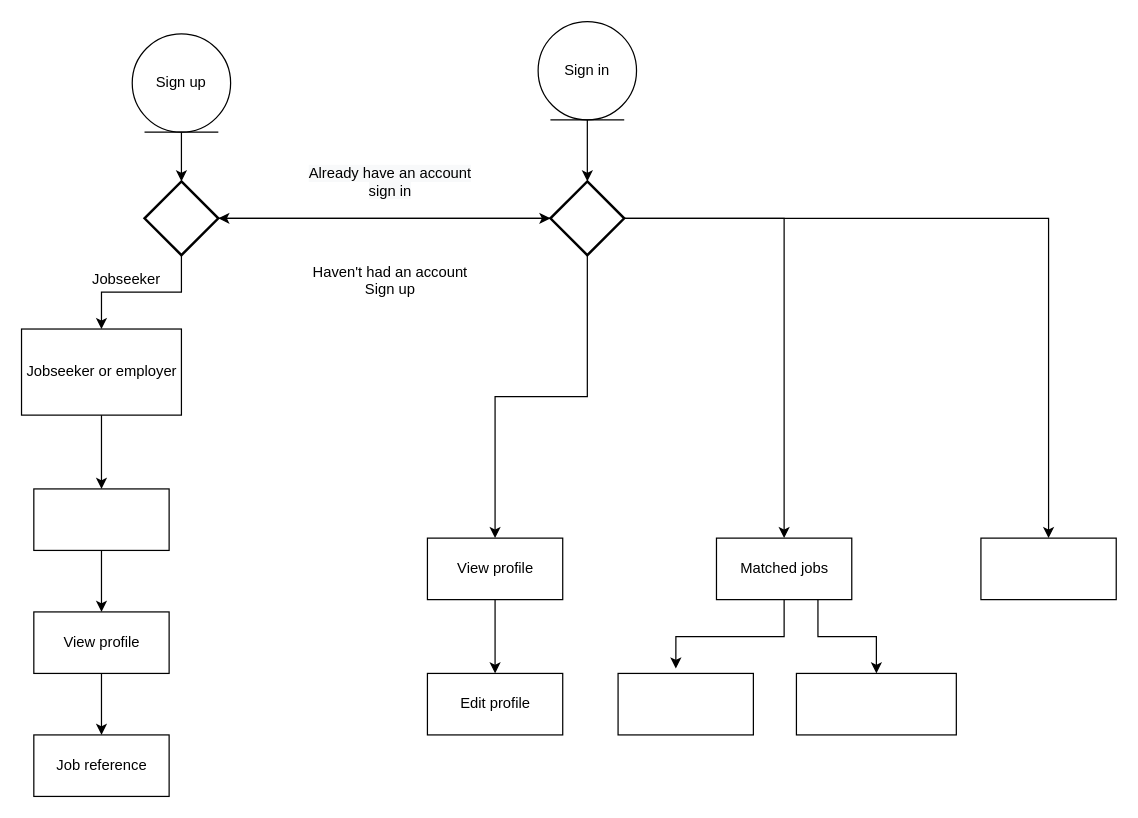
This 1138x818 diagram has some shape labels left out. Here are the shapes that lost their labels. From the top down, the centre of each, then its label:
At point (101, 519): "Create profile".
At point (1048, 568): "Search".
At point (685, 703): "Chat".
At point (875, 703): "View employer's profile".
